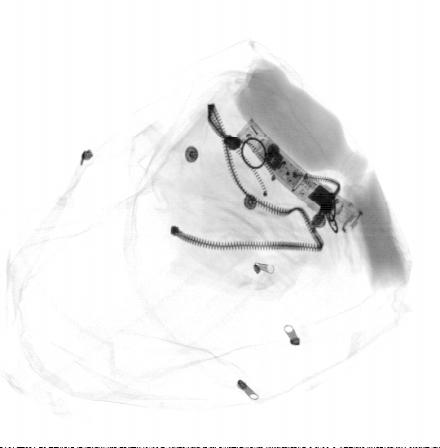Baton: (236, 117, 365, 235)
